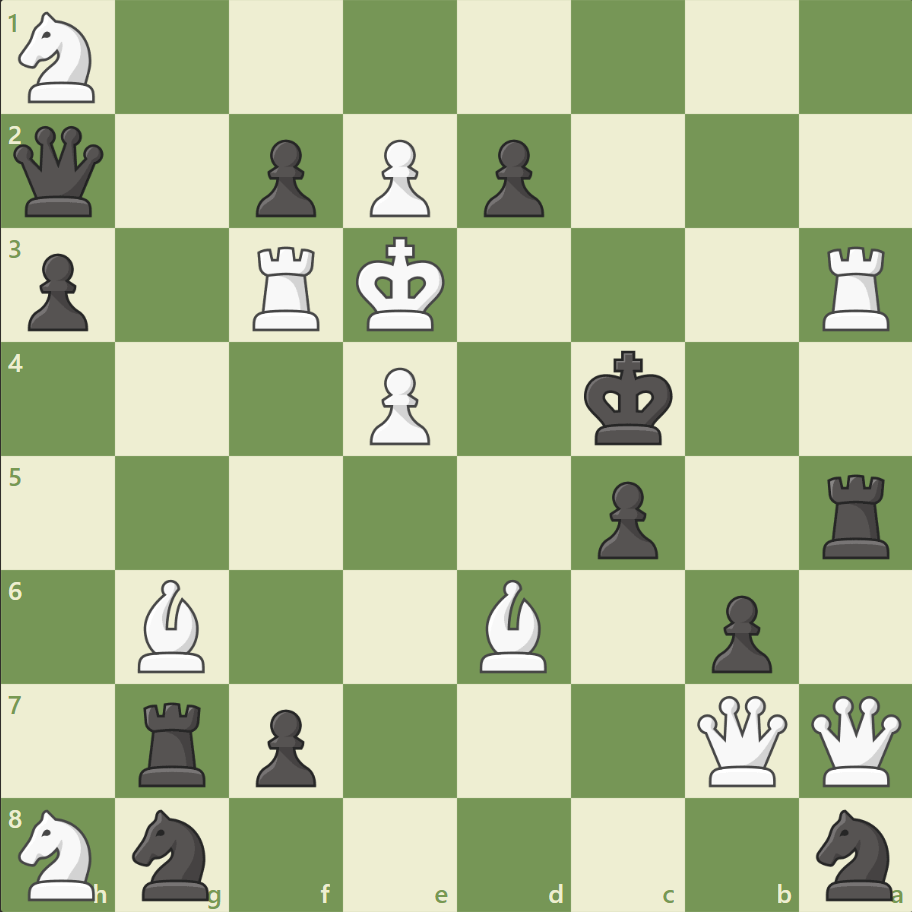B: (471, 574, 555, 676), (131, 574, 215, 676)
K: (351, 231, 451, 339)
N: (11, 7, 108, 110), (11, 802, 108, 904)
P: (361, 359, 435, 450), (361, 132, 435, 223)
Q: (805, 690, 904, 789), (691, 690, 790, 789)
R: (814, 239, 897, 336), (246, 239, 329, 336)
k: (579, 344, 679, 452)
n: (124, 802, 222, 904), (806, 802, 903, 904)
p: (247, 700, 322, 791), (701, 586, 776, 677), (20, 246, 95, 337), (474, 132, 549, 223), (247, 132, 322, 223), (588, 473, 662, 564)
q: (10, 122, 109, 222)
r: (814, 466, 897, 563), (133, 693, 215, 790)
